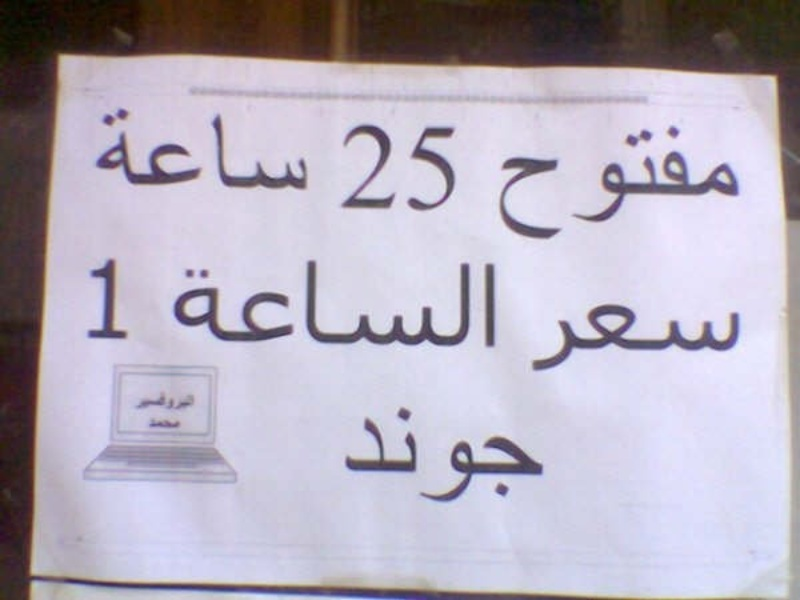text: (513, 123, 528, 243), (529, 123, 544, 243), (545, 123, 560, 243), (561, 123, 576, 243), (577, 123, 592, 243), (593, 123, 608, 243), (609, 123, 624, 243), (625, 123, 640, 243), (641, 123, 656, 243), (657, 123, 672, 243), (673, 123, 688, 243), (689, 123, 704, 243), (705, 123, 720, 243), (721, 123, 736, 243), (353, 405, 368, 506), (369, 405, 384, 506), (385, 405, 400, 506), (401, 405, 416, 506), (417, 405, 432, 506), (433, 405, 448, 506), (449, 405, 464, 506), (465, 405, 480, 506), (481, 405, 496, 506), (497, 405, 512, 506), (513, 405, 528, 506), (353, 118, 368, 215), (369, 118, 384, 215), (385, 118, 400, 215), (401, 118, 416, 215), (417, 118, 432, 215), (433, 118, 448, 215), (529, 405, 543, 506), (177, 259, 192, 353), (193, 259, 208, 353), (209, 259, 224, 353), (225, 259, 240, 353), (241, 259, 256, 353), (257, 259, 272, 353), (273, 259, 288, 353), (289, 259, 304, 353), (305, 259, 320, 353), (321, 259, 336, 353), (337, 259, 352, 353), (353, 259, 368, 353), (369, 259, 384, 353), (385, 259, 400, 353), (401, 259, 416, 353), (417, 259, 432, 353), (433, 259, 448, 353), (449, 259, 464, 353), (465, 259, 480, 353), (481, 259, 496, 353), (97, 105, 112, 194), (113, 105, 128, 194), (129, 105, 144, 194), (145, 105, 160, 194), (161, 105, 176, 194), (177, 105, 192, 194), (193, 105, 208, 194), (209, 105, 224, 194), (225, 105, 240, 194), (241, 105, 256, 194), (257, 105, 272, 194), (273, 105, 288, 194), (289, 105, 304, 194), (97, 257, 112, 343), (113, 257, 128, 343), (339, 118, 352, 215), (502, 123, 512, 243), (561, 302, 576, 377), (577, 302, 592, 377), (593, 302, 608, 377), (609, 302, 624, 377), (625, 302, 640, 377), (641, 302, 656, 377), (657, 302, 672, 377), (673, 302, 688, 377), (689, 302, 704, 377), (705, 302, 720, 377), (721, 302, 736, 377), (83, 257, 96, 343), (449, 118, 460, 215), (343, 405, 352, 506), (549, 302, 560, 377), (305, 105, 314, 194), (737, 123, 742, 243), (737, 302, 745, 377), (170, 259, 176, 353), (90, 105, 96, 194), (497, 259, 502, 353), (145, 390, 160, 415), (161, 390, 176, 415), (177, 390, 192, 415), (133, 390, 144, 415), (193, 390, 202, 415), (161, 418, 176, 430), (129, 257, 131, 343), (150, 418, 160, 430), (177, 418, 181, 430)
